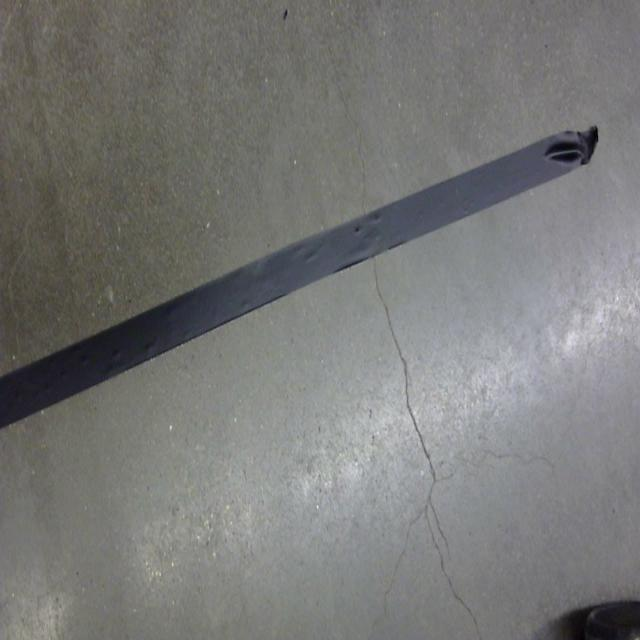tape: (0, 111, 626, 470)
